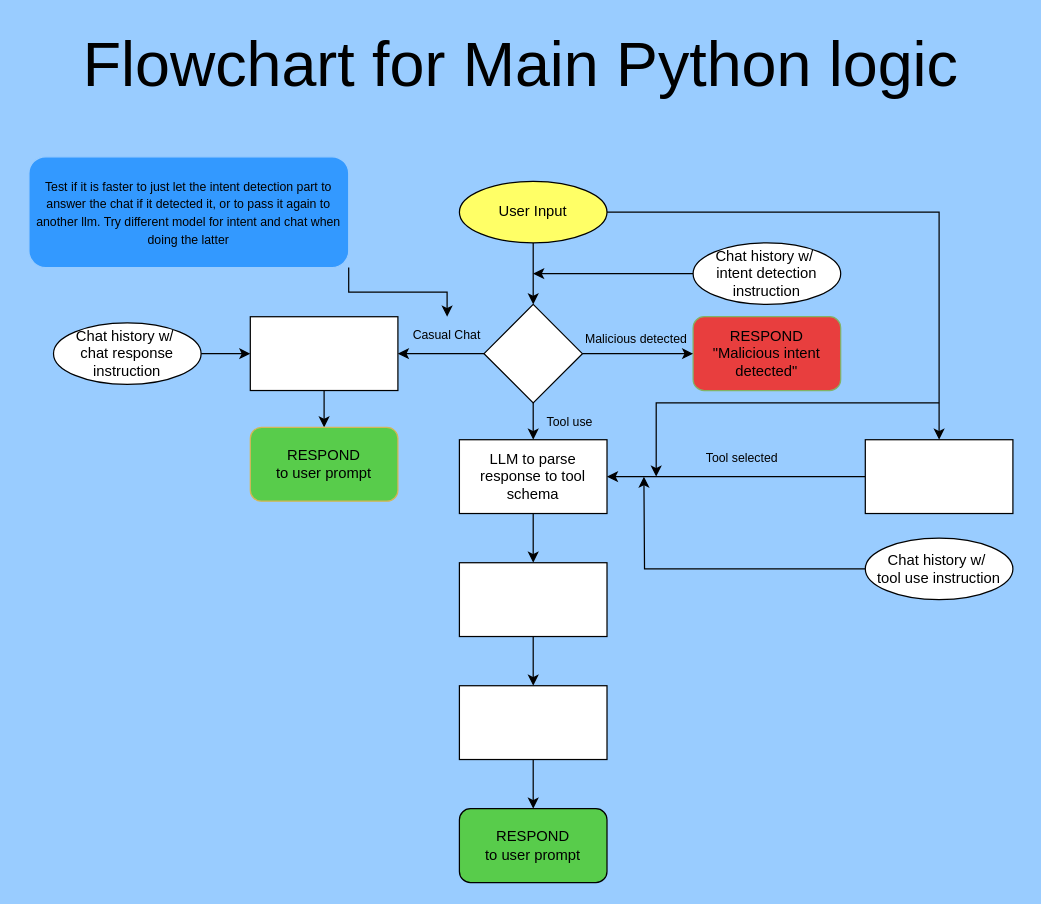
This 1041x904 diagram has some shape labels left out. Here are the shapes that lost their labels. From the top down, the centre of each, then its label:
At [323,353]: "LLM Process response".
At [532,353]: "Intent Detection".
At [938,476]: "Vector DB tool selection".
At [532,599]: "Python use tool".
At [532,722]: "LLM make response based on tool output".
